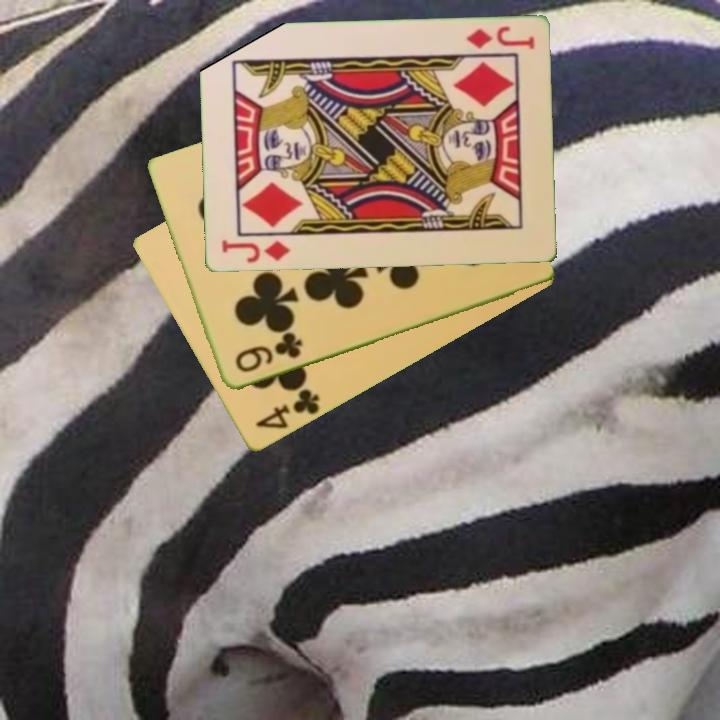4c: (252, 385, 323, 433)
9c: (231, 331, 306, 376)
Jd: (462, 22, 537, 53), (218, 237, 292, 266)
